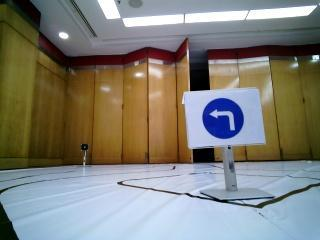left: (185, 90, 262, 143)
